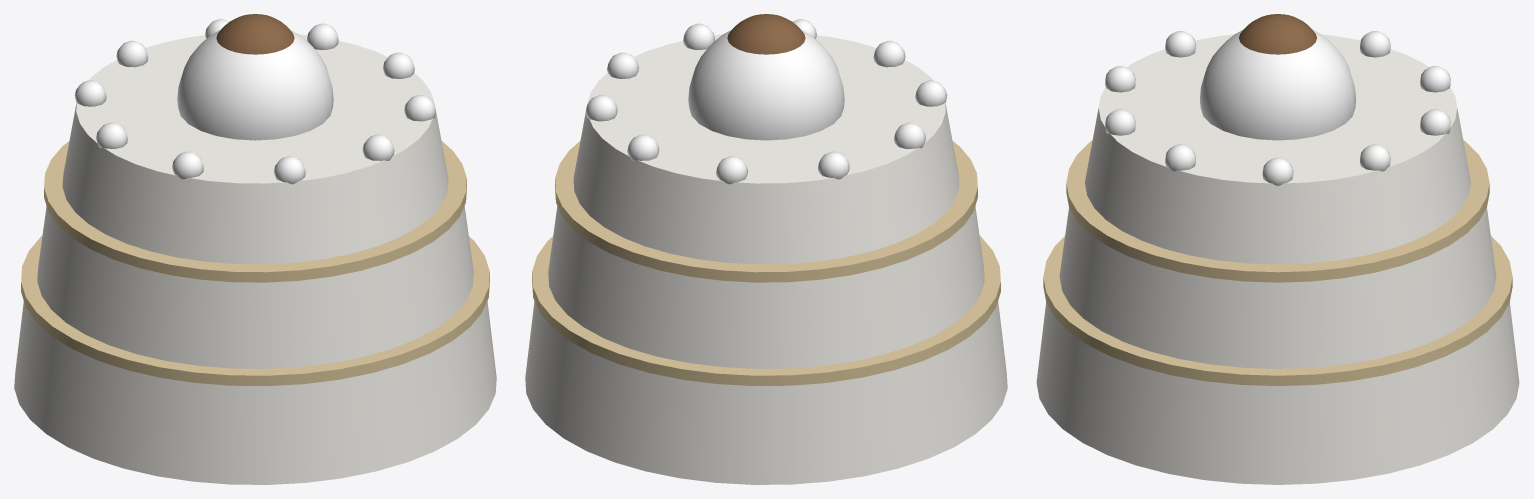
3 views of the same model, side by side, from view 1: azimuth 30°, elevation 25°; view 2: azimuth 150°, elevation 25°; view 3: azimuth 270°, elevation 25° (orthographic).
Visible parts, largest first — view 1: CoconutCake; view 2: CoconutCake; view 3: CoconutCake.
Part boxes in pixels (left/top/right/bottom): CoconutCake: left=14, top=14, right=496, bottom=484; CoconutCake: left=525, top=14, right=1007, bottom=484; CoconutCake: left=1036, top=14, right=1519, bottom=484.
Bounding box in the file's own units: 2.1 × 1.75 × 2.1.
